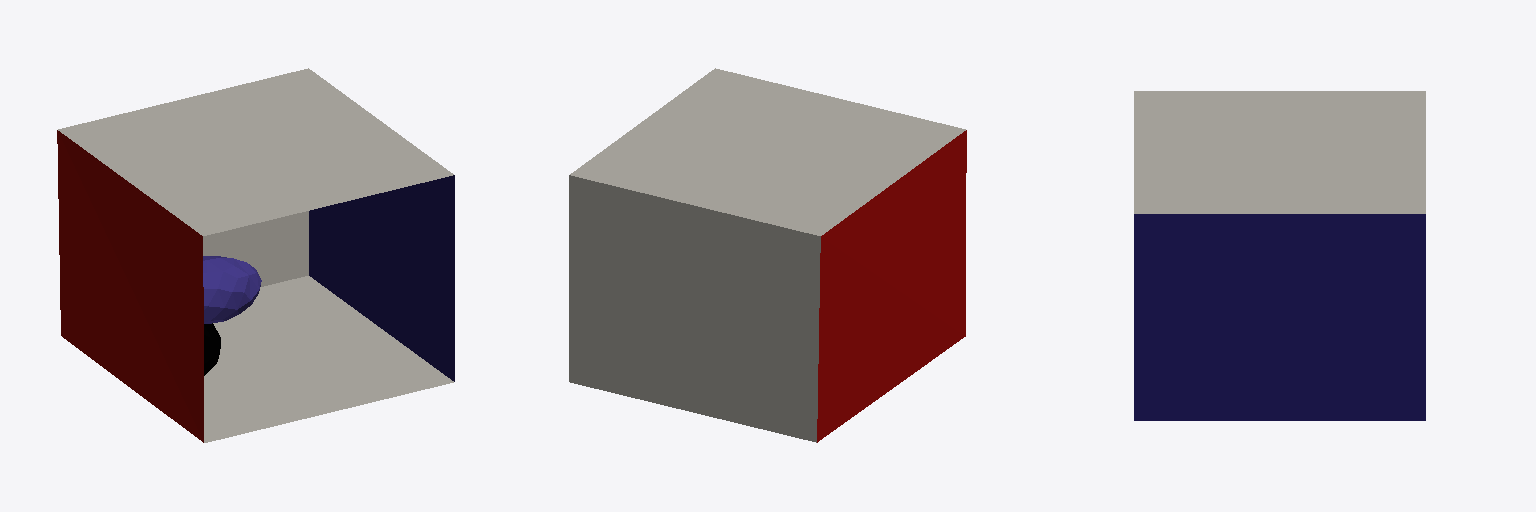
Rendered from CornellBox-Ellipsoid-118.obj.
The picture shows the model from 3 angles: view 1: azimuth 30°, elevation 25°; view 2: azimuth 150°, elevation 25°; view 3: azimuth 270°, elevation 25°; orthographic projection.
Visible parts, largest first — view 1: ceiling, leftWall, floor, rightWall, backWall, leftSphere, rightSphere; view 2: backWall, ceiling, leftWall; view 3: rightWall, ceiling.
Part boxes in pixels (left/top/right/bottom): ceiling: left=58, top=68, right=453, bottom=235; leftWall: left=57, top=130, right=203, bottom=442; floor: left=204, top=276, right=453, bottom=442; rightWall: left=309, top=175, right=454, bottom=381; backWall: left=203, top=211, right=308, bottom=286; leftSphere: left=203, top=256, right=261, bottom=323; rightSphere: left=204, top=323, right=220, bottom=375; backWall: left=569, top=175, right=820, bottom=442; ceiling: left=570, top=68, right=965, bottom=235; leftWall: left=817, top=130, right=966, bottom=442; rightWall: left=1134, top=214, right=1425, bottom=420; ceiling: left=1134, top=91, right=1425, bottom=213.
Bounding box in the file's own units: 2.02 × 1.59 × 2.03.